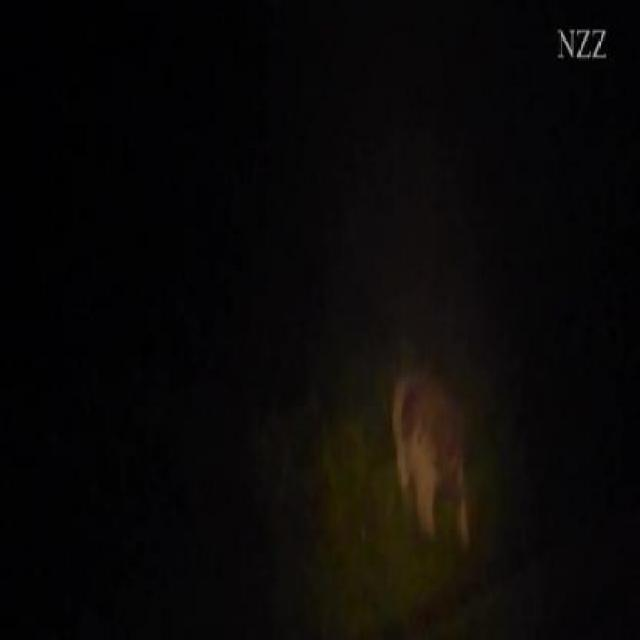Elephant: (360, 340, 505, 555)
